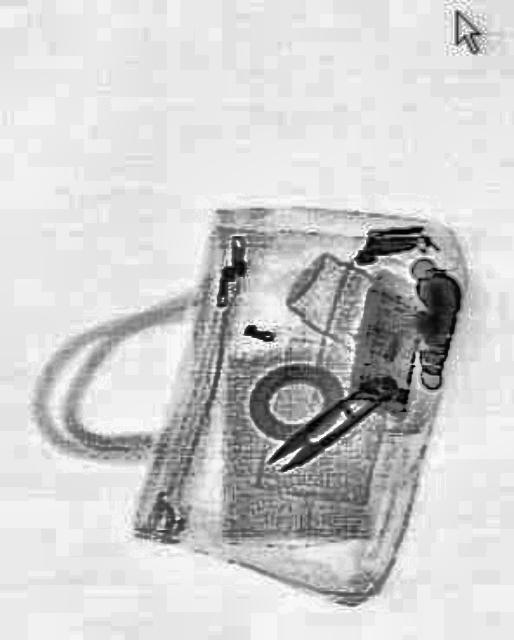Scissors: (264, 359, 398, 479)
